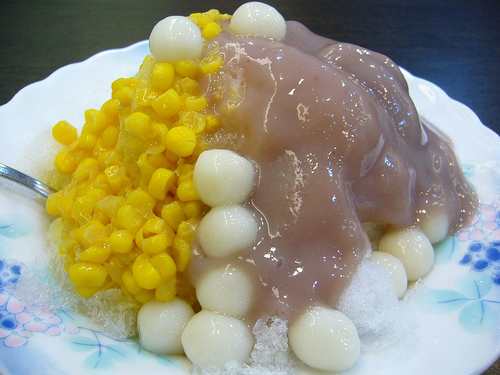corn: (43, 9, 233, 313)
